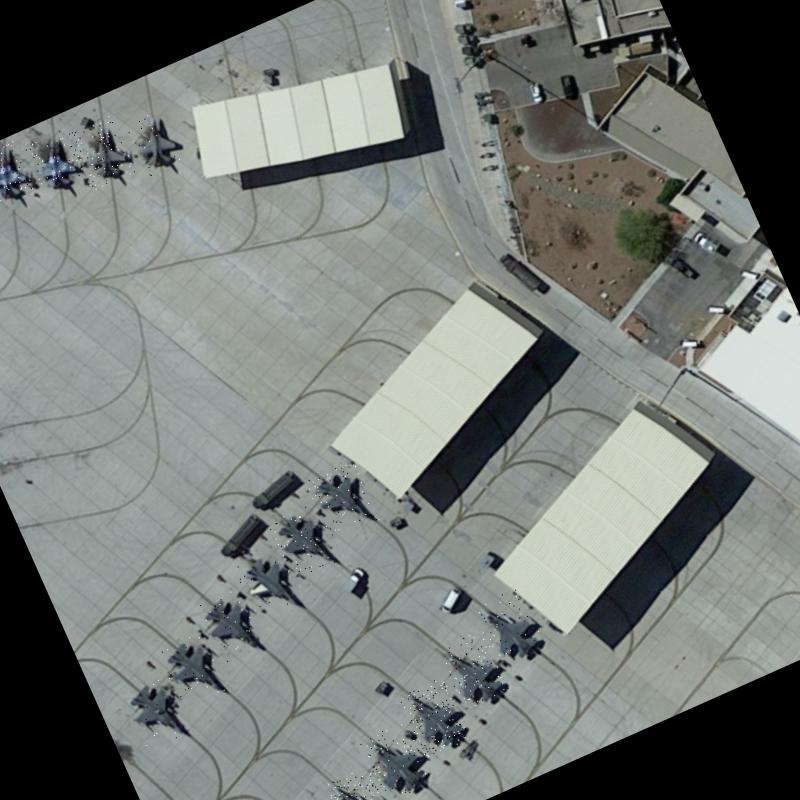A5: (304, 459, 380, 543), (474, 585, 548, 669), (438, 630, 511, 714), (359, 719, 434, 800), (398, 676, 470, 758), (156, 631, 228, 711), (118, 675, 190, 755), (64, 115, 136, 192), (194, 588, 264, 665), (266, 504, 335, 582), (234, 548, 303, 626), (123, 107, 187, 178), (25, 131, 82, 197), (324, 765, 398, 800), (0, 140, 35, 208)
